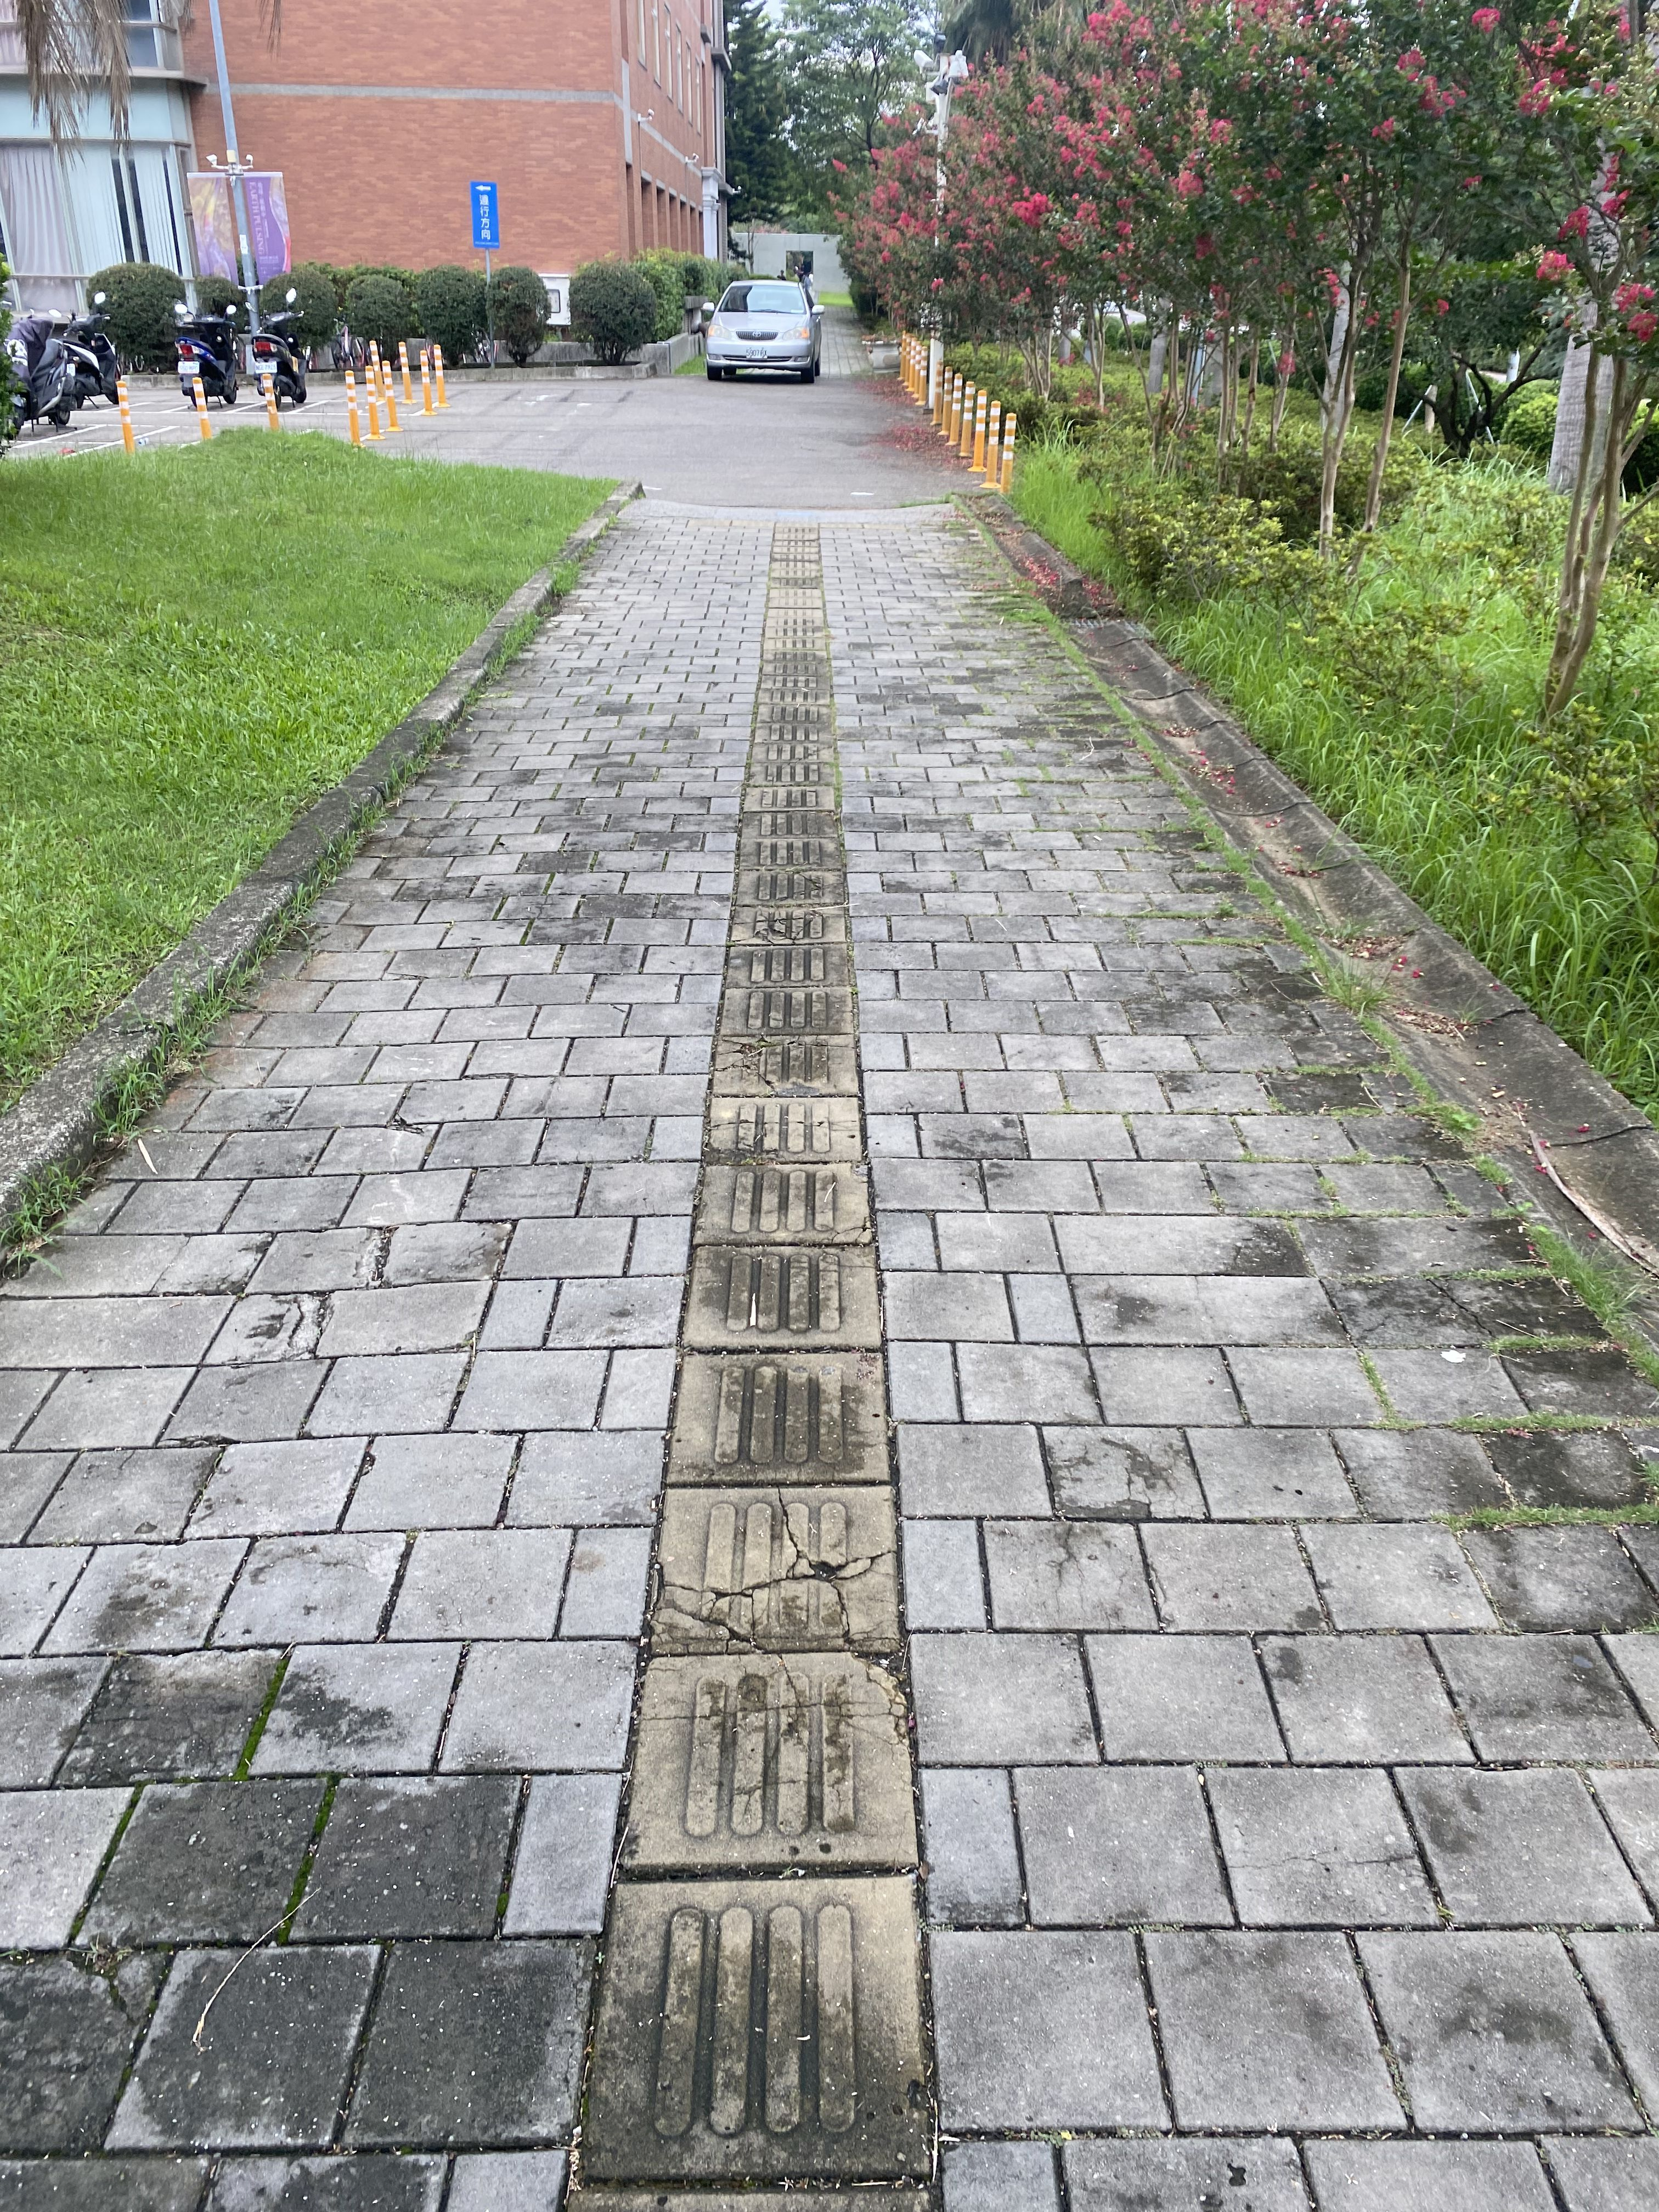sidewalk: (0, 482, 1659, 2207)
